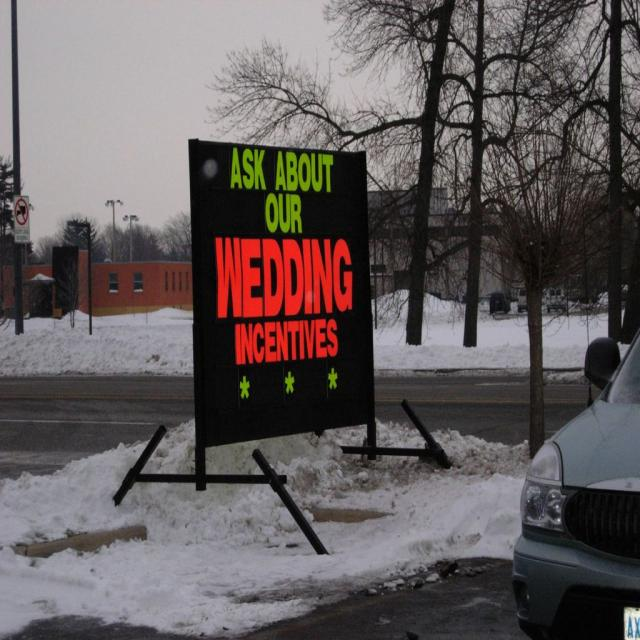other: (505, 303, 639, 639)
